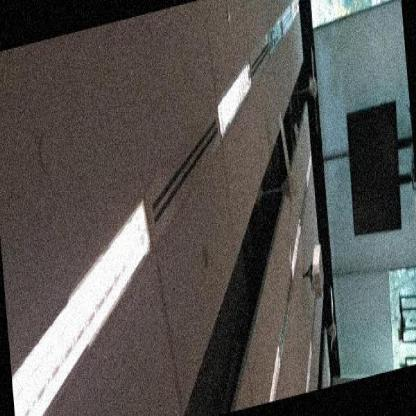light_on: (0, 190, 170, 414), (204, 45, 266, 146), (258, 342, 290, 404), (282, 215, 310, 283), (299, 336, 322, 394), (300, 144, 320, 190)
